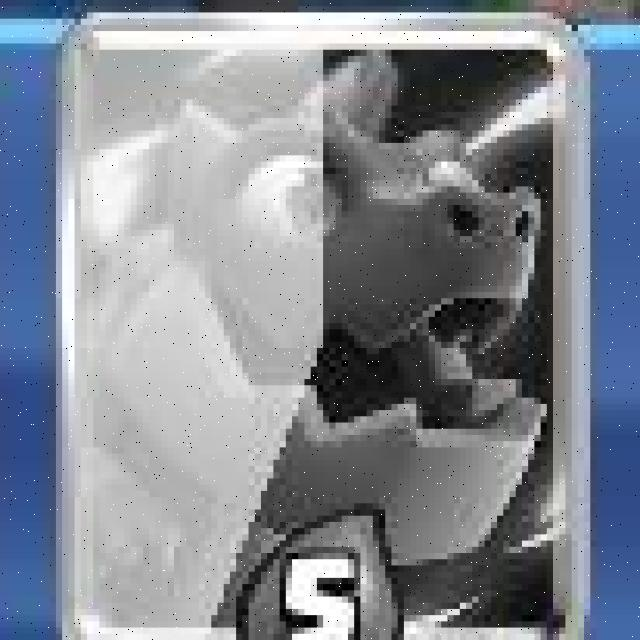Electro_Dragon: (59, 12, 592, 640)
